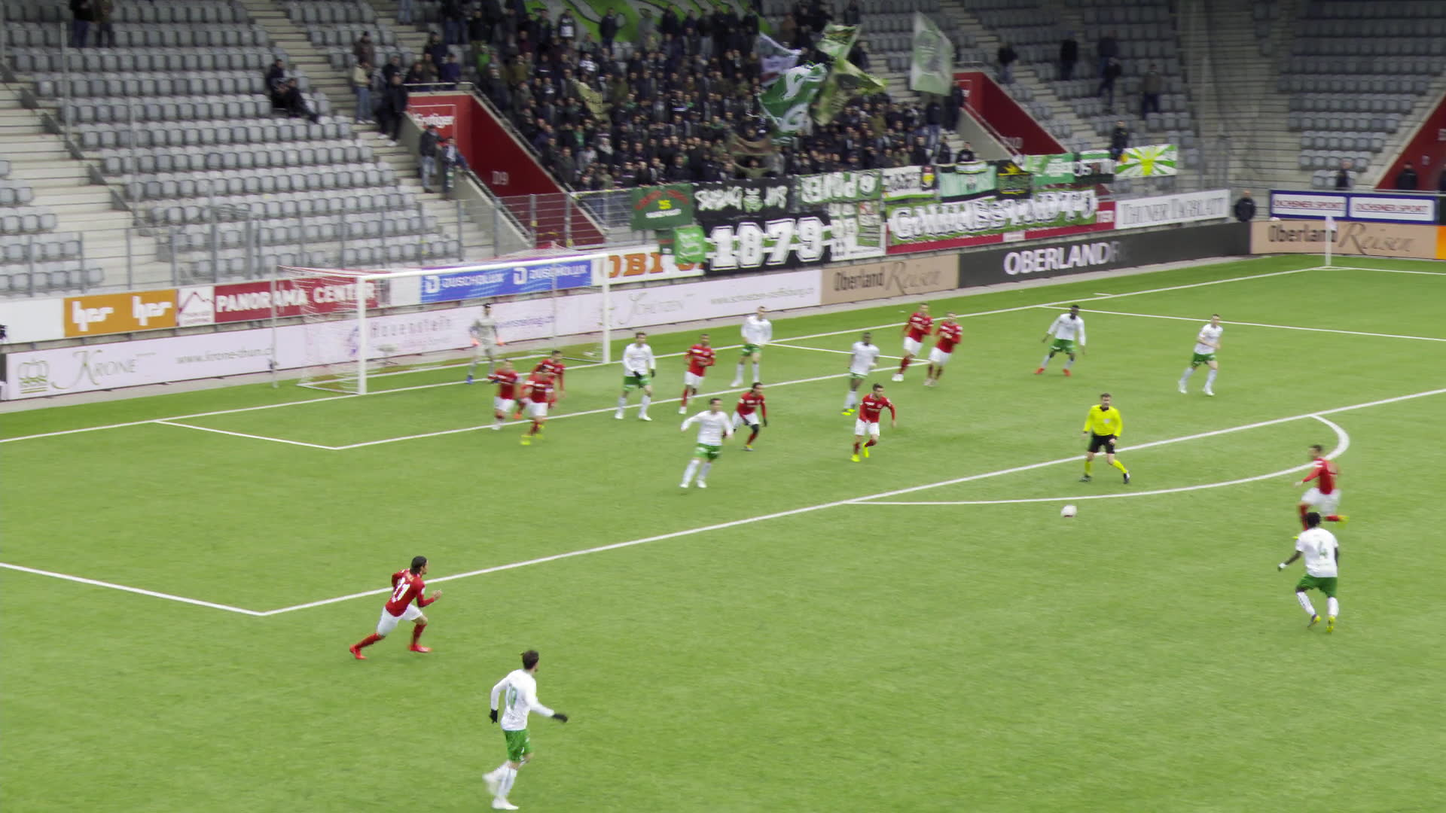ball: (1053, 502, 1072, 520)
player: (476, 646, 569, 811), (358, 556, 440, 664), (1277, 510, 1347, 635), (683, 394, 745, 493), (1295, 445, 1360, 539), (612, 329, 659, 422), (1040, 303, 1092, 379), (530, 364, 576, 449), (1183, 315, 1229, 399), (466, 301, 511, 385), (676, 331, 720, 416), (854, 381, 898, 464), (839, 330, 881, 416), (735, 307, 779, 389), (928, 312, 973, 392), (720, 381, 770, 452), (895, 303, 938, 385), (488, 358, 532, 437), (527, 349, 568, 421)
referee: (1084, 393, 1137, 489)
